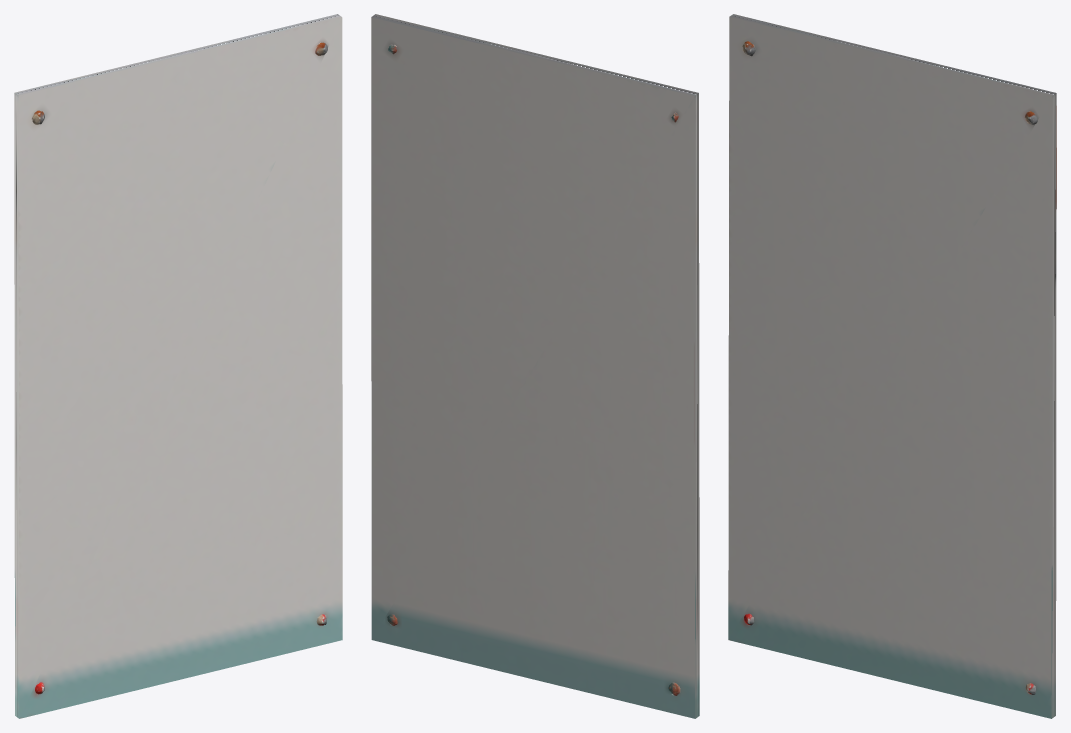
File: KIT_wall_1m.glb
3 views of the same model, side by side, from view 1: azimuth 30°, elevation 25°; view 2: azimuth 150°, elevation 25°; view 3: azimuth 330°, elevation 25° (orthographic).
Size of the model in its own units: 0.5151 by 0.9482 by 0.0229.
1 material, 1 textured.
